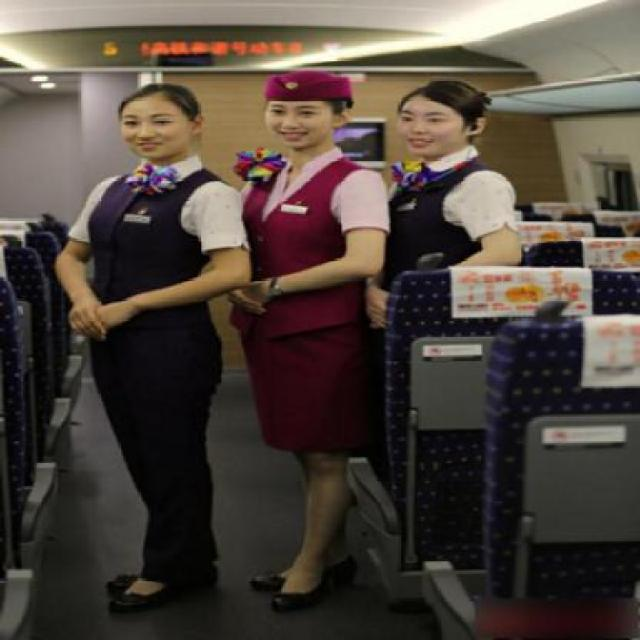Person: (54, 79, 258, 624), (226, 56, 397, 596), (364, 62, 531, 346)
